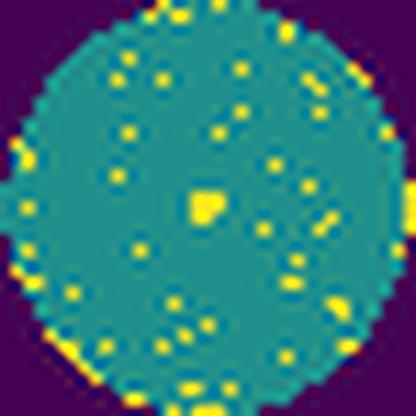Center: (180, 179, 236, 237)
